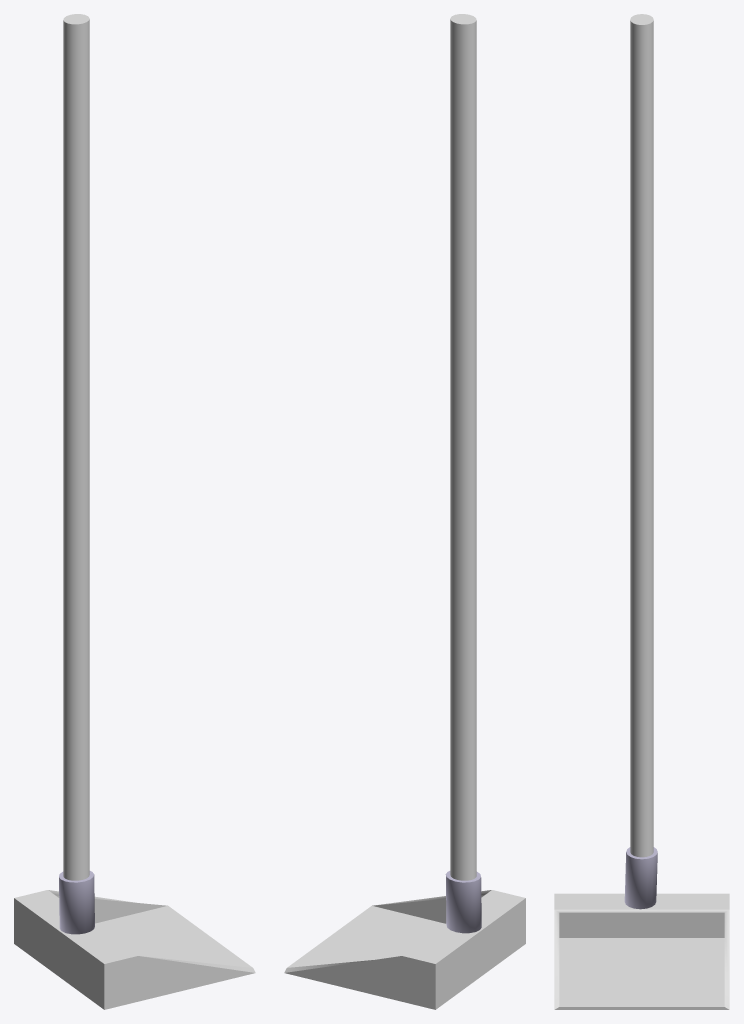
Rendered from Dustpan.fbx.
The picture shows the model from 3 angles, left to right: view 1: azimuth 30°, elevation 25°; view 2: azimuth 150°, elevation 25°; view 3: azimuth 270°, elevation 25°; orthographic projection. The views are drawn at different scales.
Parts seen in each view (by area): view 1: Dustpan; view 2: Dustpan; view 3: Dustpan.
Part boxes in pixels (x1,y1,x2,y2): Dustpan: (14, 14, 255, 1009); Dustpan: (284, 14, 525, 1009); Dustpan: (554, 14, 729, 1009).
Bounding box in the file's own units: 37.79 × 227 × 39.01.
